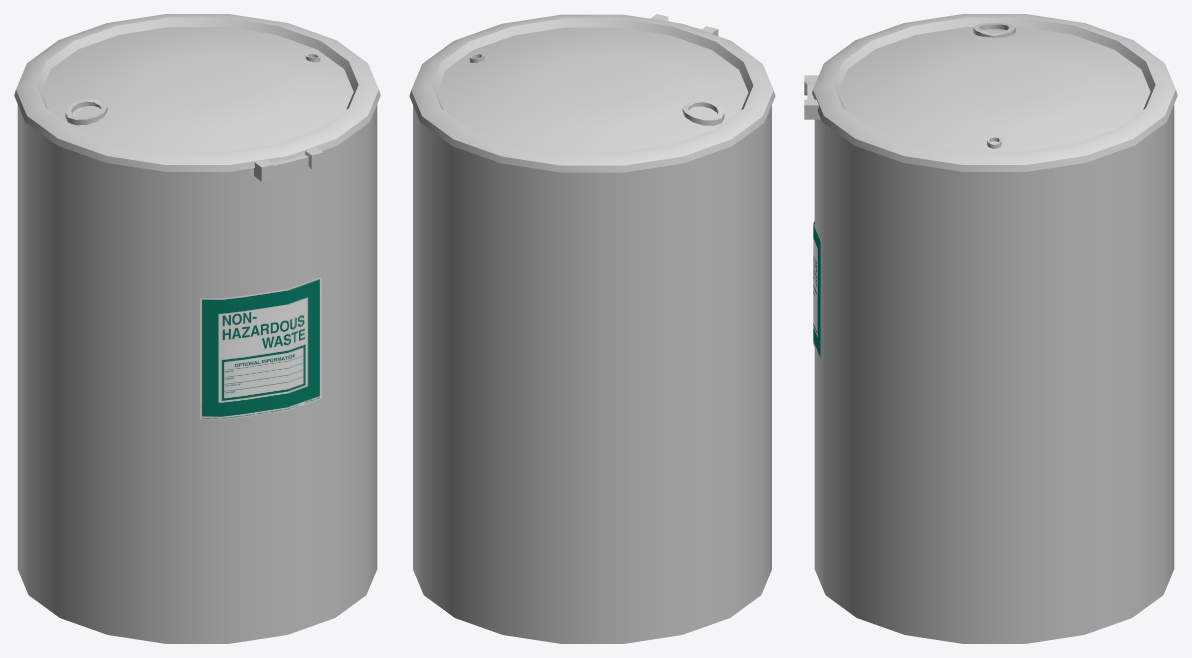
Rendered from Bulging_Drum.fbx.
3 renders of one model, left to right at view 1: azimuth 30°, elevation 25°; view 2: azimuth 150°, elevation 25°; view 3: azimuth 270°, elevation 25°, orthographic.
Parts seen in each view (by area): view 1: 55_Gal_Drum_, 55_Gal_Drum_Lid_Low.004, 55_Gal_Drum_.001; view 2: 55_Gal_Drum_, 55_Gal_Drum_Lid_Low.004; view 3: 55_Gal_Drum_, 55_Gal_Drum_Lid_Low.004, 55_Gal_Drum_.001.
Part boxes in pixels (x1=…): 55_Gal_Drum_: x1=17, y1=104, x2=377, y2=643; 55_Gal_Drum_Lid_Low.004: x1=14, y1=14, x2=380, y2=181; 55_Gal_Drum_.001: x1=200, y1=277, x2=321, y2=419; 55_Gal_Drum_: x1=413, y1=105, x2=771, y2=643; 55_Gal_Drum_Lid_Low.004: x1=409, y1=14, x2=775, y2=172; 55_Gal_Drum_: x1=814, y1=104, x2=1174, y2=643; 55_Gal_Drum_Lid_Low.004: x1=804, y1=14, x2=1177, y2=171; 55_Gal_Drum_.001: x1=813, y1=220, x2=820, y2=361.
Size of the model in its own units: 58.21 by 90.61 by 60.23.
